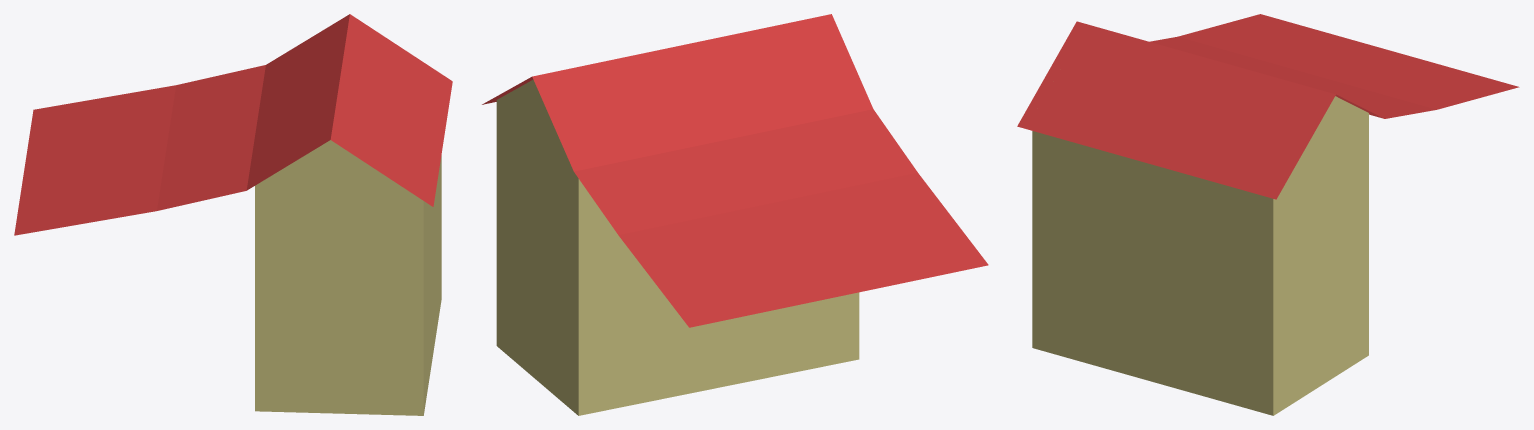
The picture shows the model from 3 angles, left to right: view 1: azimuth 30°, elevation 25°; view 2: azimuth 150°, elevation 25°; view 3: azimuth 270°, elevation 25°; orthographic projection. The views are drawn at different scales.
Bounding box in the file's own units: 12.39 × 11.58 × 7.37.
